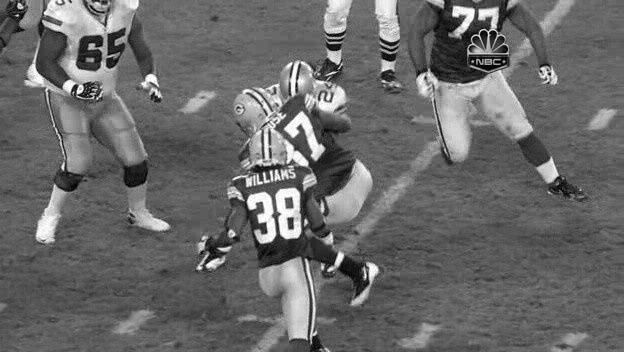person: (280, 60, 313, 102), (279, 60, 312, 102), (281, 60, 314, 102), (280, 59, 313, 101), (280, 61, 313, 103)
target_negative: (219, 55, 483, 352), (434, 16, 529, 312), (248, 62, 534, 128), (462, 208, 510, 338), (593, 94, 611, 151), (464, 306, 519, 321)
